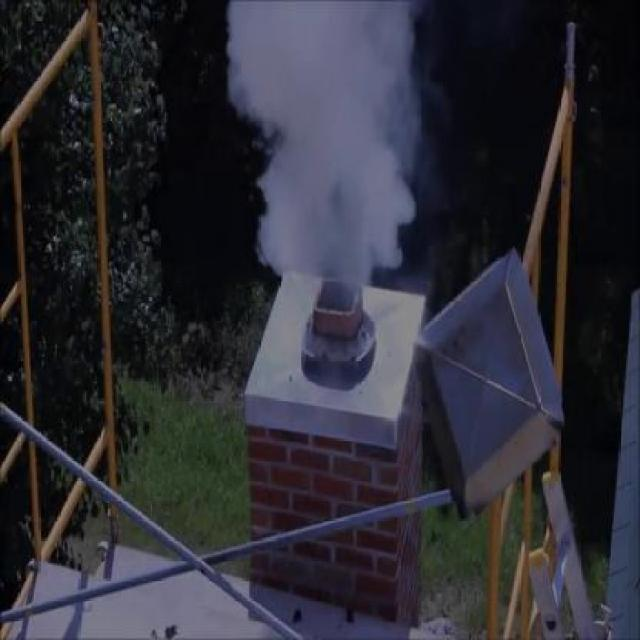smoke: (257, 13, 431, 272)
